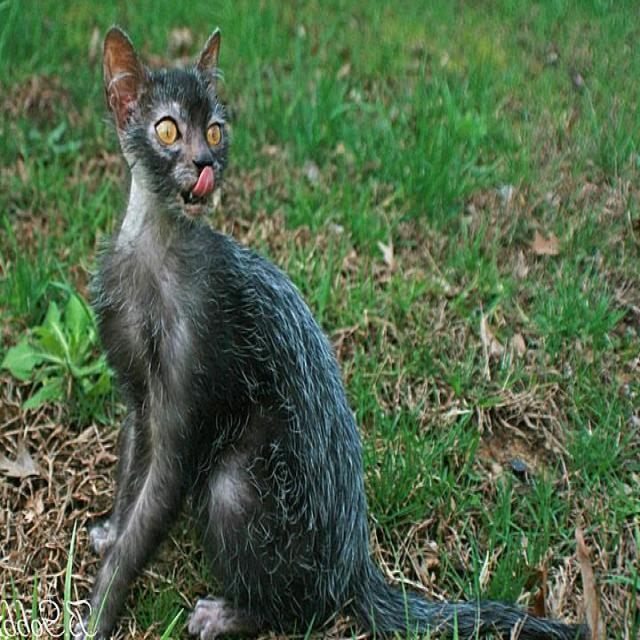Lykoi: (76, 18, 591, 640)
